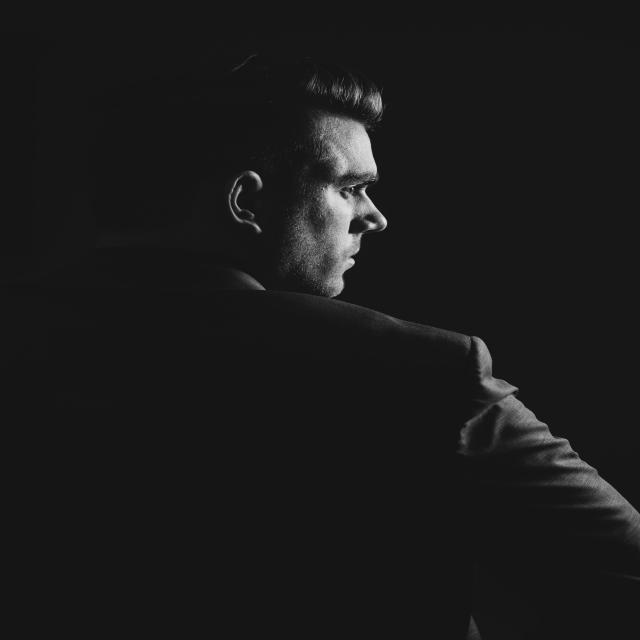adult: (213, 57, 640, 640)
